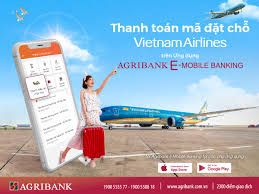maybay_dansu: (98, 88, 259, 130), (209, 1, 250, 19)
